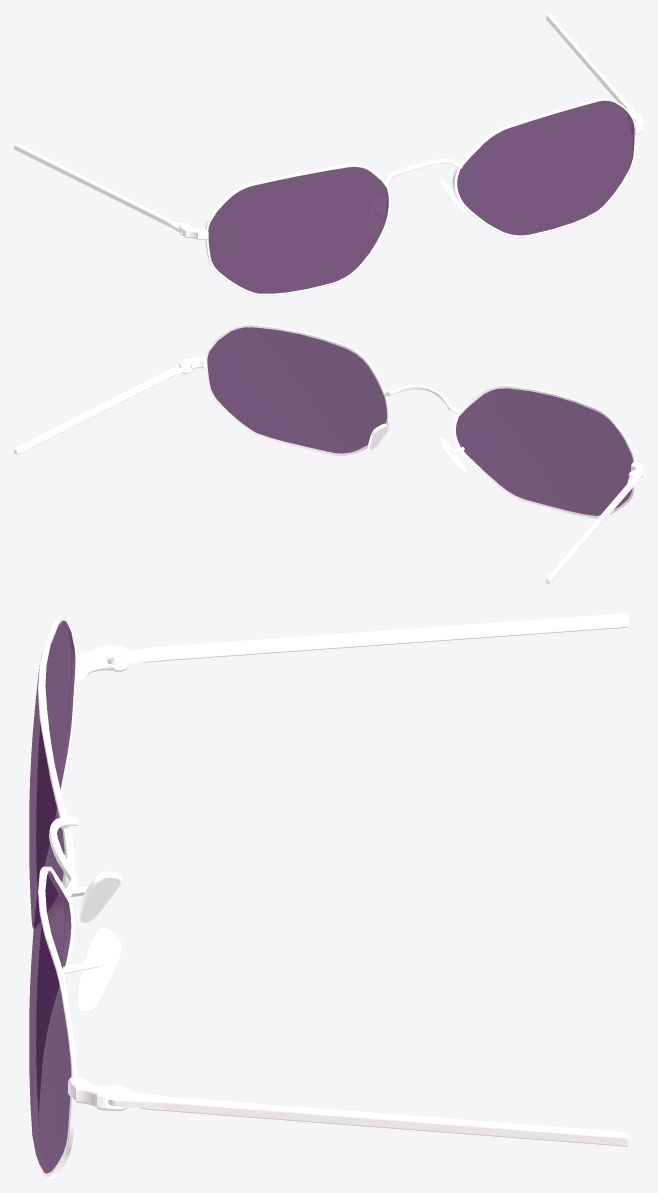
File: sunglasses-euphoria-purple.glb
3 renders of one model, top to bottom at view 1: azimuth 30°, elevation 25°; view 2: azimuth 150°, elevation 25°; view 3: azimuth 270°, elevation 25°, orthographic. The views are drawn at different scales.
Parts seen in each view (by area): view 1: main, rightEar, leftEar; view 2: main, leftEar, rightEar; view 3: main, rightEar, leftEar.
Part boxes in pixels (box(x1,y1,x2,y2)): main: box(163, 97, 643, 295); rightEar: box(14, 143, 165, 224); leftEar: box(546, 14, 628, 107); main: box(164, 324, 643, 518); leftEar: box(14, 372, 167, 454); rightEar: box(546, 485, 629, 584); main: box(29, 616, 170, 1178); rightEar: box(170, 613, 628, 660); leftEar: box(170, 1097, 628, 1146).
Size of the model in its own units: 2.2 by 0.4578 by 1.06.
Materials: 3 (1 with a texture image).
